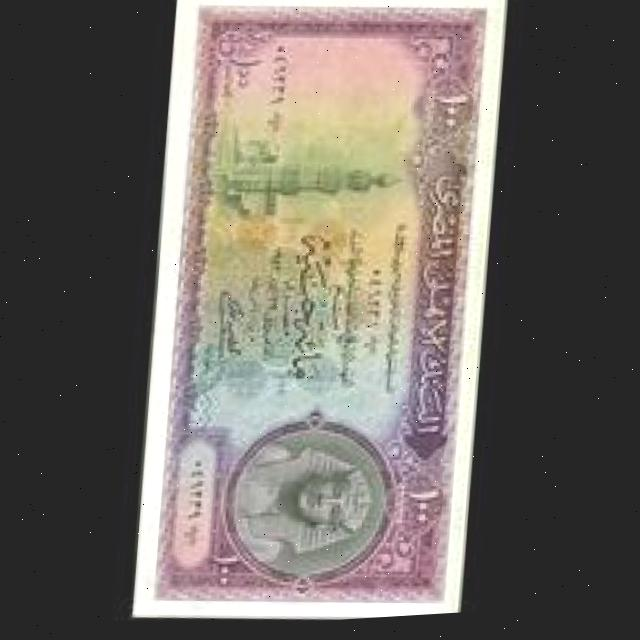banknote: (128, 0, 510, 634)
